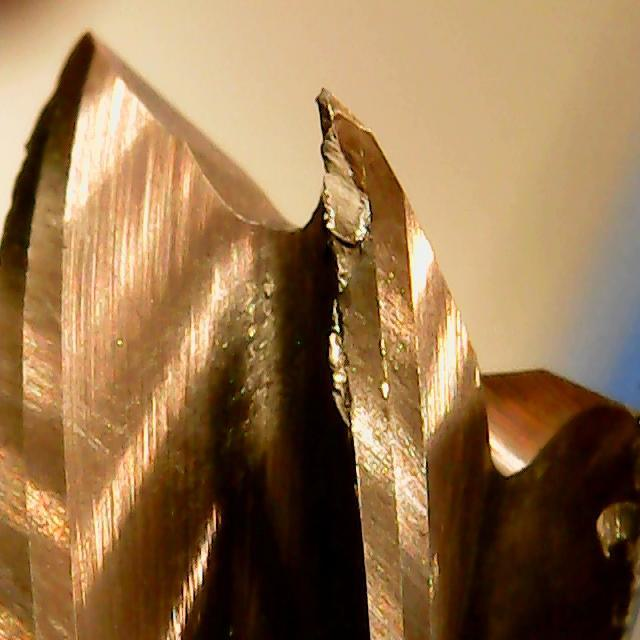Tool-wear-class-2: (298, 86, 446, 378)
